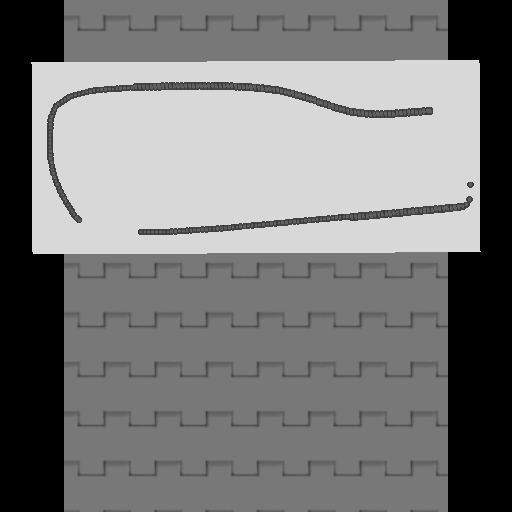Defect: (79, 213, 140, 237)
